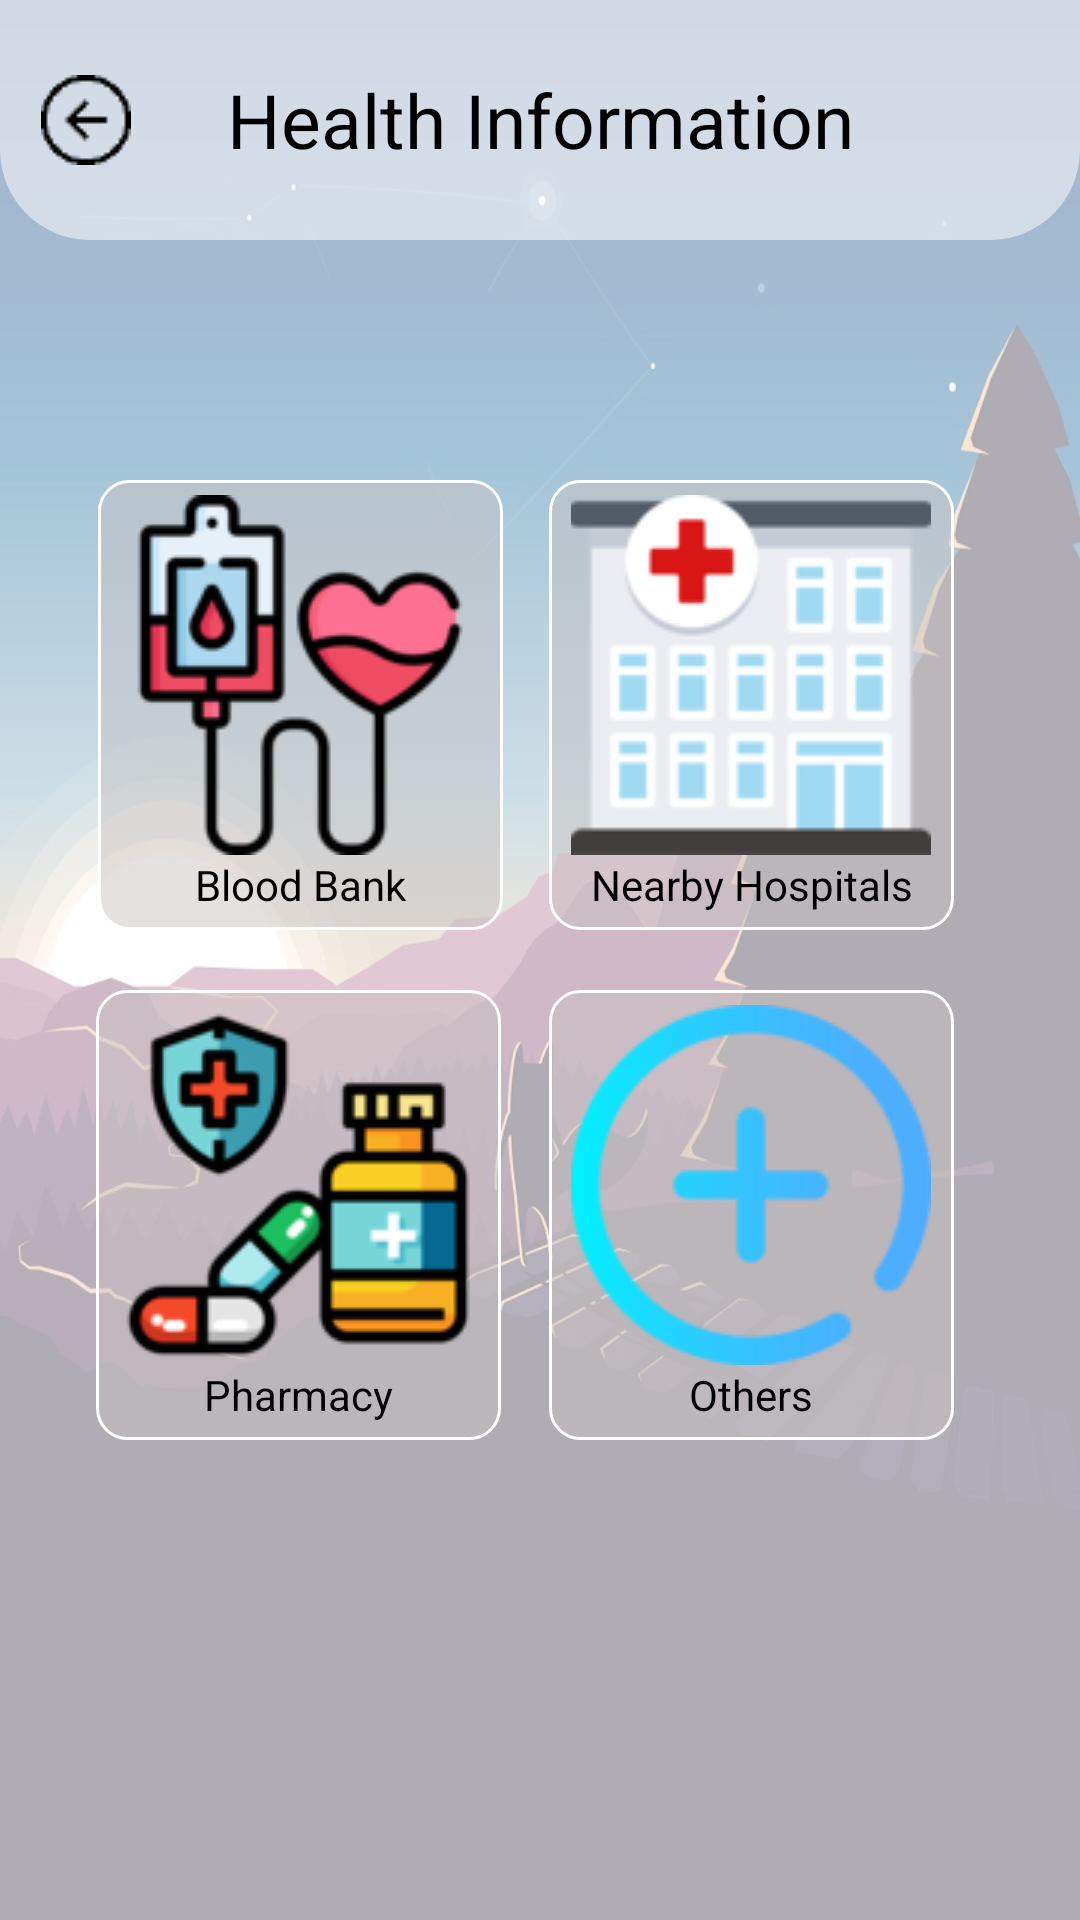

Icon bounding boxes for this 1080w x 1920h phone screenshot, format rect(x1, y1, x2, y2):
backll: rect(41, 75, 131, 165)
